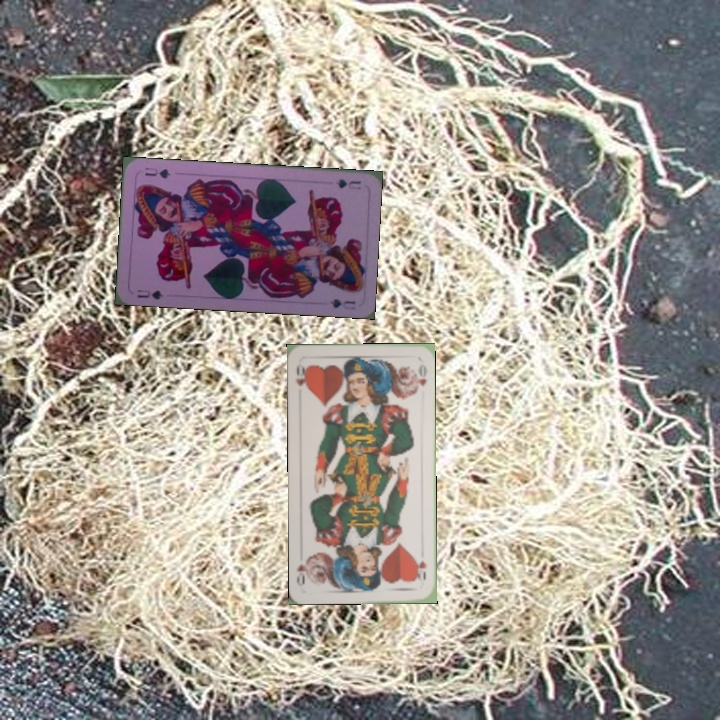GU: (133, 285, 166, 302), (332, 175, 364, 192)
HO: (291, 360, 310, 392), (412, 555, 429, 582)
